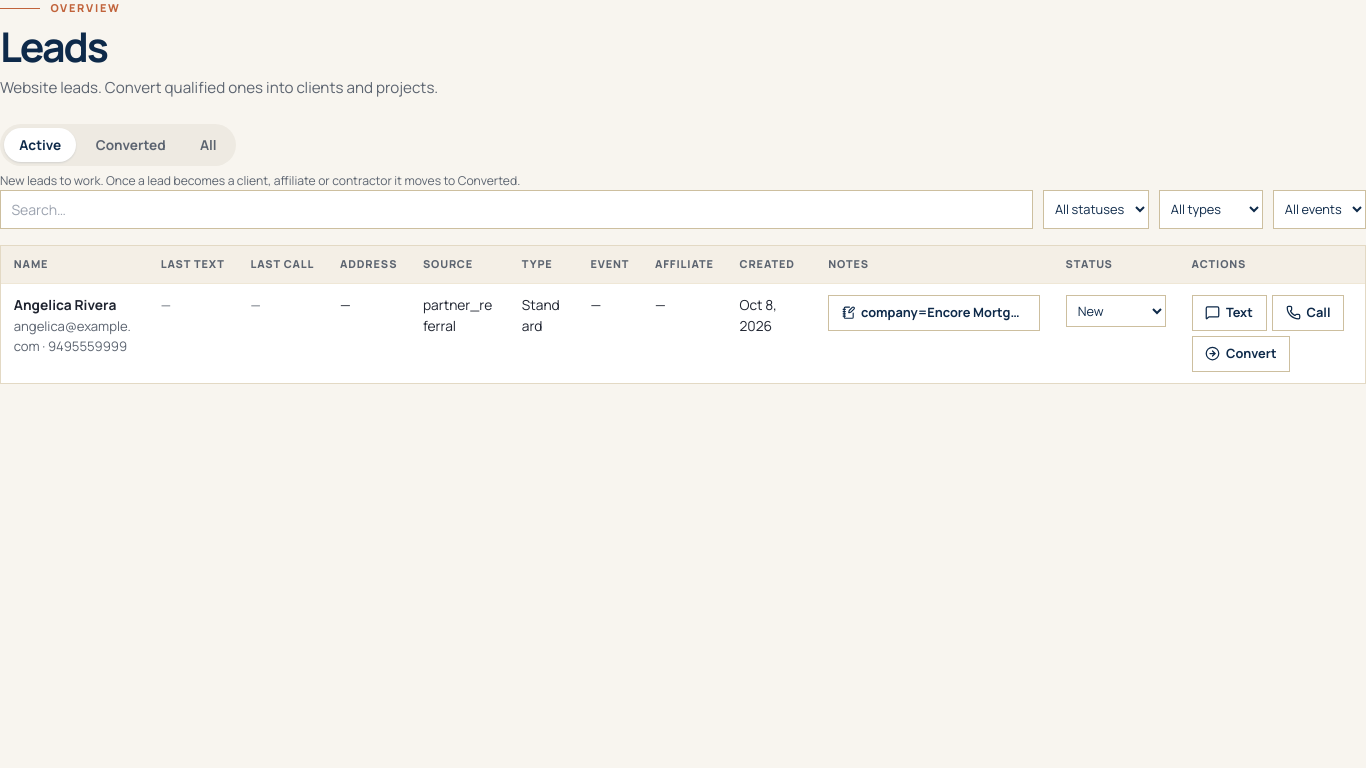
Test case: Admin Leads Convert modal › opens convert with Affiliate smart-default for partner_referral
The width and height of the screenshot is (1366, 768).
Expected: the text "Angelica Rivera" is shown, [14,295,116,314]
Click the button "Convert" at (1241,354), box [1192,336,1290,372]
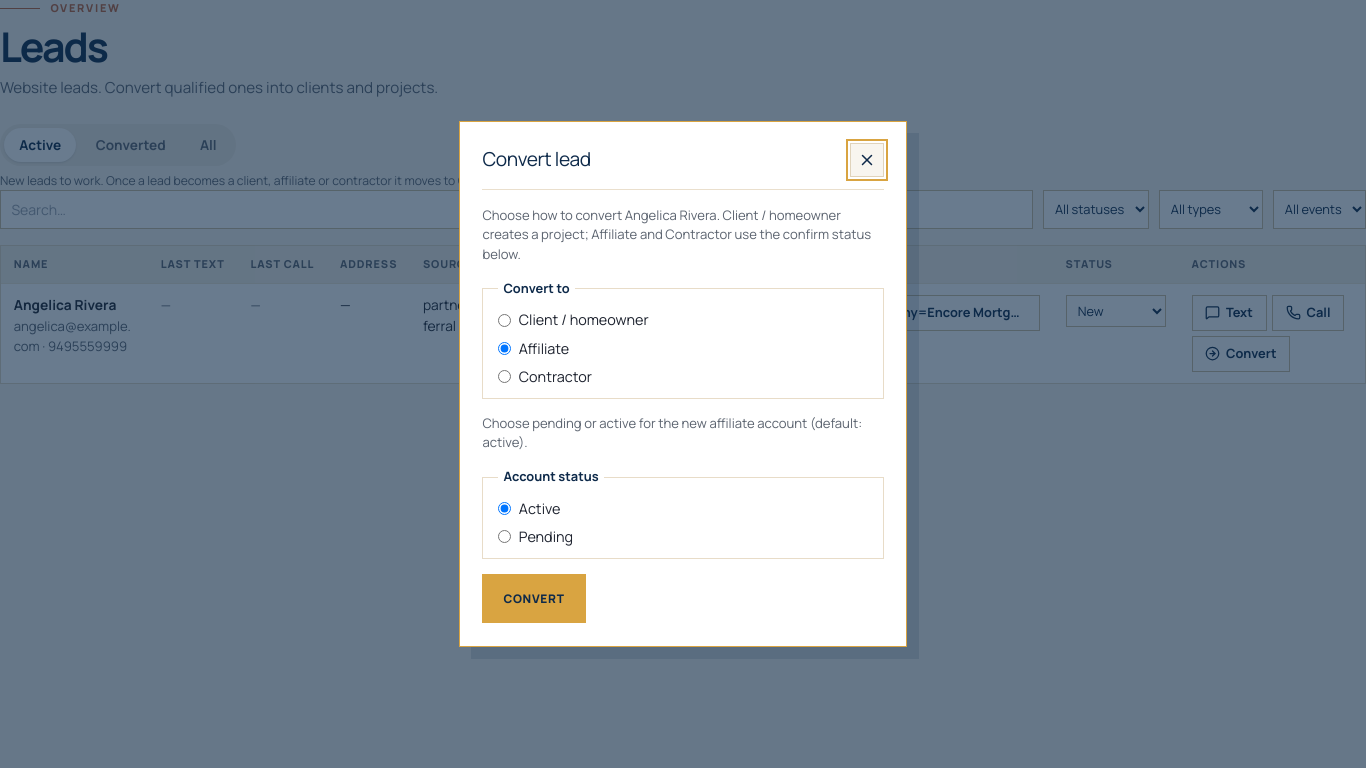
Expected: the text "Affiliate" is shown, [498,339,569,358]
Expected: the radio button labelled "Affiliate" is checked, [498,342,511,355]
Expected: the radio button labelled "Active" is checked, [498,502,511,515]
